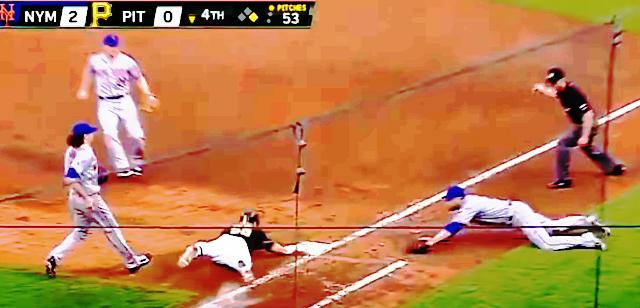jatuh: (401, 183, 613, 259), (174, 200, 318, 290)
